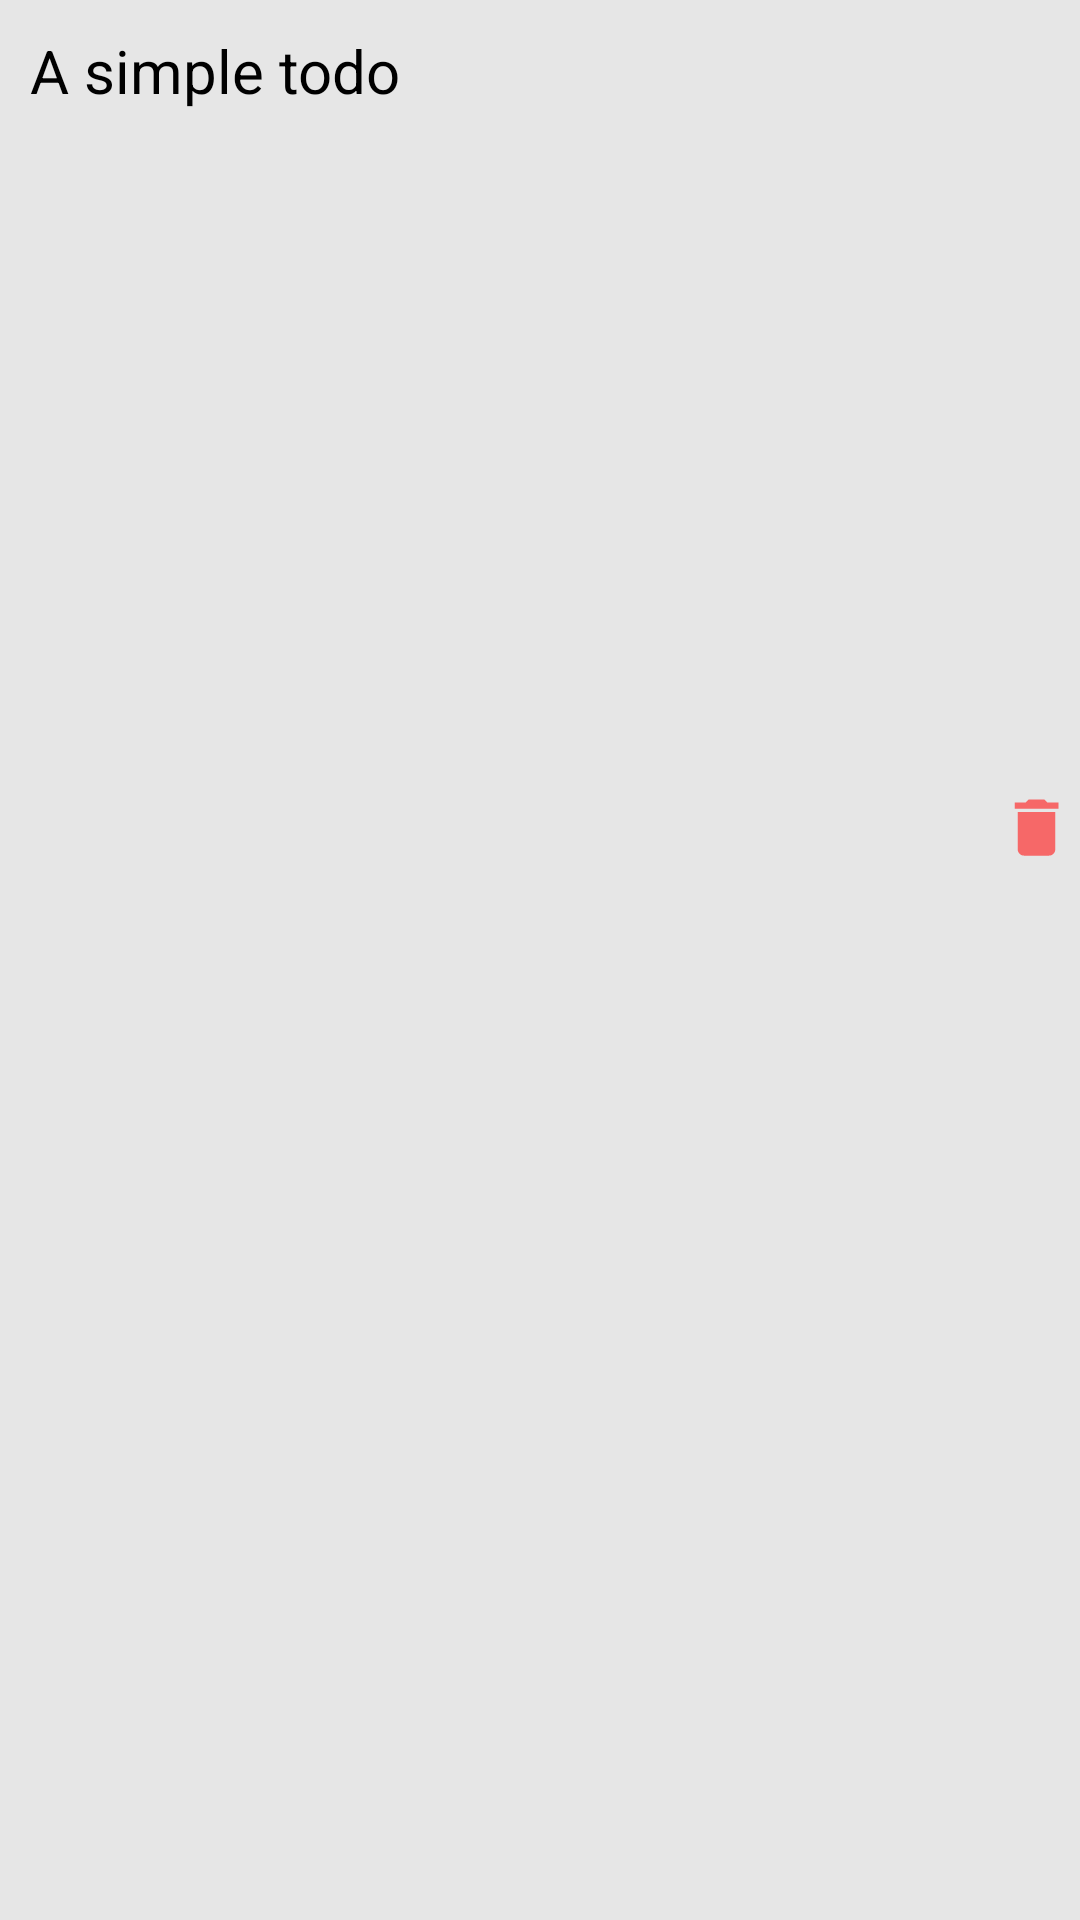

Icon click points for this 1080 × 1920 phone screenshot, format point (x, y):
delete: point (1036, 827)
